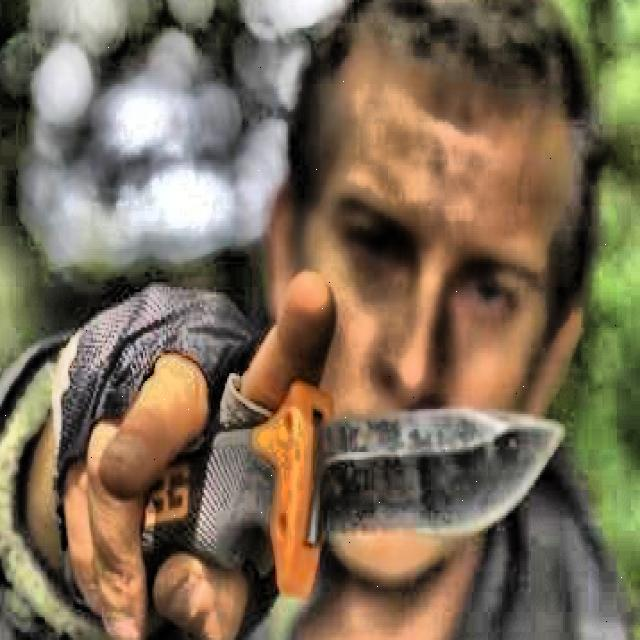knife: (145, 384, 561, 600)
